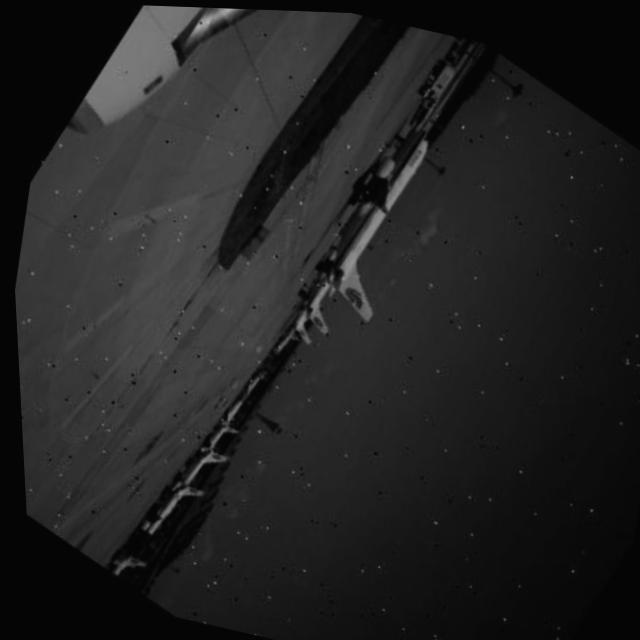aeroplane: (254, 77, 486, 357)
